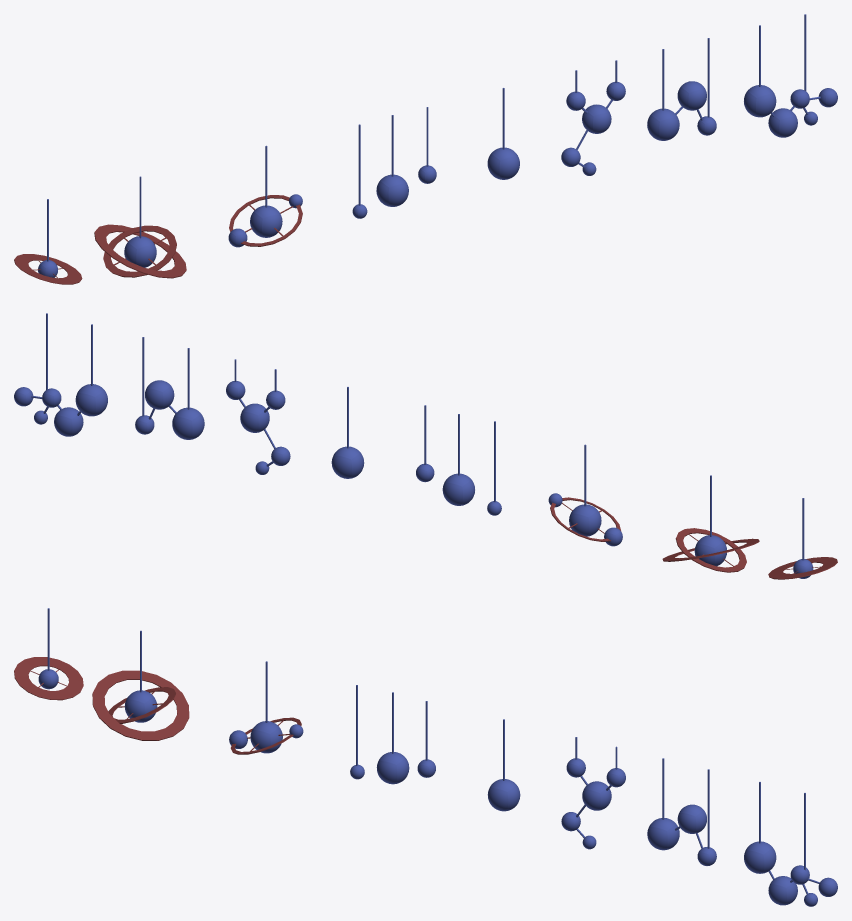
The model's file is molecules_planetes.FBX.
3 renders of one model, top to bottom at view 1: azimuth 30°, elevation 25°; view 2: azimuth 150°, elevation 25°; view 3: azimuth 330°, elevation 25°, orthographic.
Visible parts, largest first — view 1: molecule_03, Line001, molecule_02, molecule_01, planete_03, planete_07, planete_05, planete_02, Line002, Line003; view 2: molecule_03, molecule_02, molecule_01, planete_03, Line001, planete_07, planete_05, planete_02, Line002, Line003; view 3: Line001, molecule_03, molecule_02, molecule_01, Line002, planete_03, planete_05, planete_07, planete_02.
Boxes of the visible parts, box(x1,y1,x2,y2) form: molecule_03: box(744, 14, 837, 137); Line001: box(94, 224, 186, 278); molecule_02: box(647, 38, 716, 140); molecule_01: box(561, 60, 625, 175); planete_03: box(228, 145, 302, 247); planete_07: box(487, 88, 519, 179); planete_05: box(376, 115, 408, 206); planete_02: box(124, 176, 156, 267); Line002: box(14, 254, 82, 284); Line003: box(229, 195, 302, 246); molecule_03: box(14, 313, 107, 436); molecule_02: box(135, 337, 204, 439); molecule_01: box(226, 359, 290, 474); planete_03: box(548, 444, 622, 546); Line001: box(662, 528, 759, 572); planete_07: box(331, 387, 364, 478); planete_05: box(442, 414, 474, 505); planete_02: box(694, 475, 726, 566); Line002: box(768, 557, 837, 579); Line003: box(550, 497, 621, 541); Line001: box(92, 670, 189, 740); molecule_03: box(744, 782, 837, 906); molecule_02: box(647, 758, 716, 865); molecule_01: box(561, 737, 625, 849); Line002: box(14, 657, 83, 700); planete_03: box(229, 661, 303, 753); planete_05: box(376, 692, 409, 784); planete_07: box(487, 719, 520, 811); planete_02: box(124, 630, 157, 722).
Bounding box in the file's own units: 2897 × 394 × 301.
